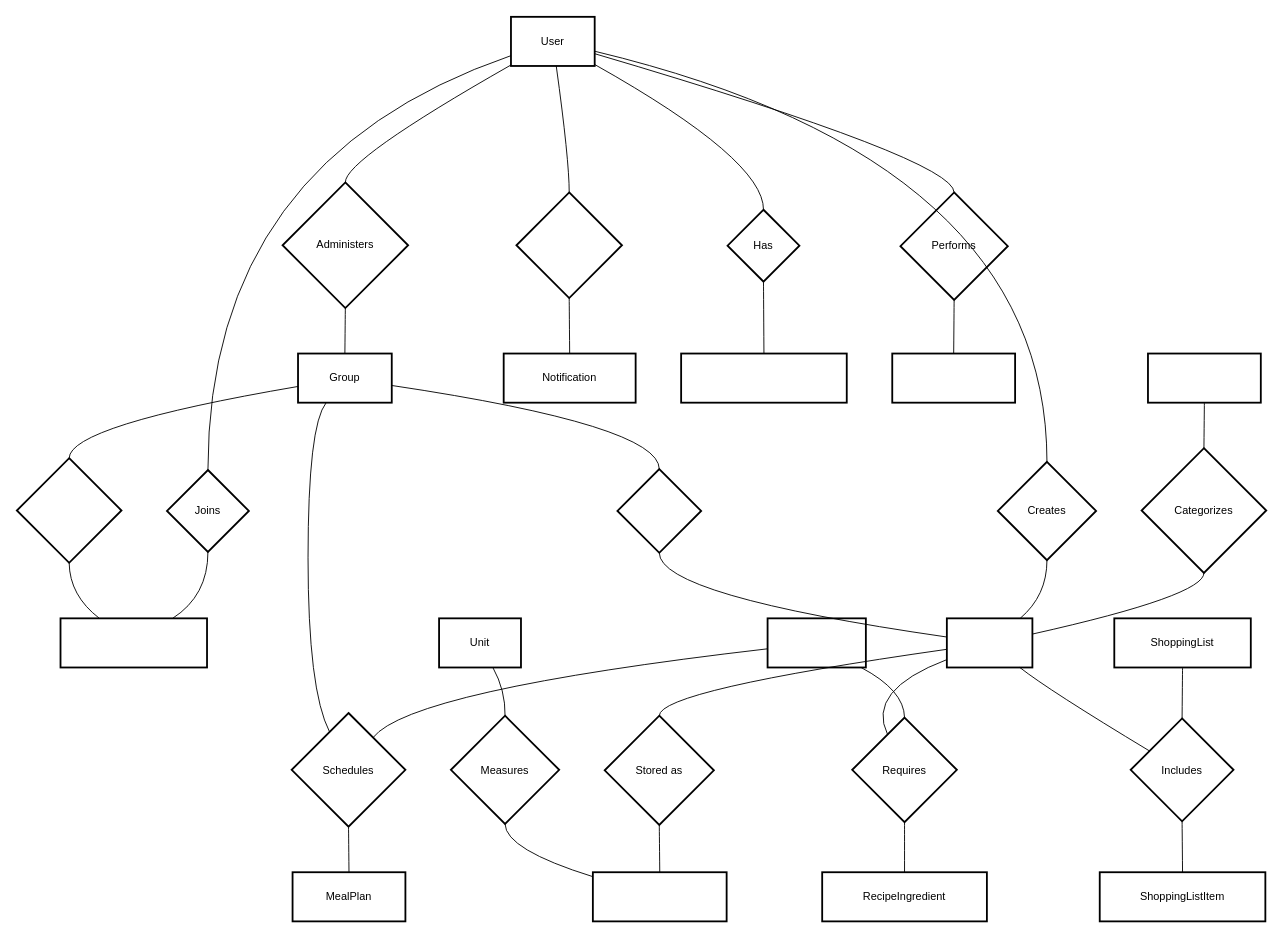
This 1282x937 diagram has some shape labels left out. Here are the shapes that lost their labels. From the top down, the centre of each, then its label:
At point 568,244: "Receives".
At point 763,377: "EmailVerification".
At point 953,377: "SystemLog".
At point 1204,377: "Category".
At point 68,510: "Contains".
At point 659,510: "Owns".
At point 133,642: "GroupMember".
At point 816,642: "Recipe".
At point 989,642: "Food".
At point 659,896: "KitchenItem".
